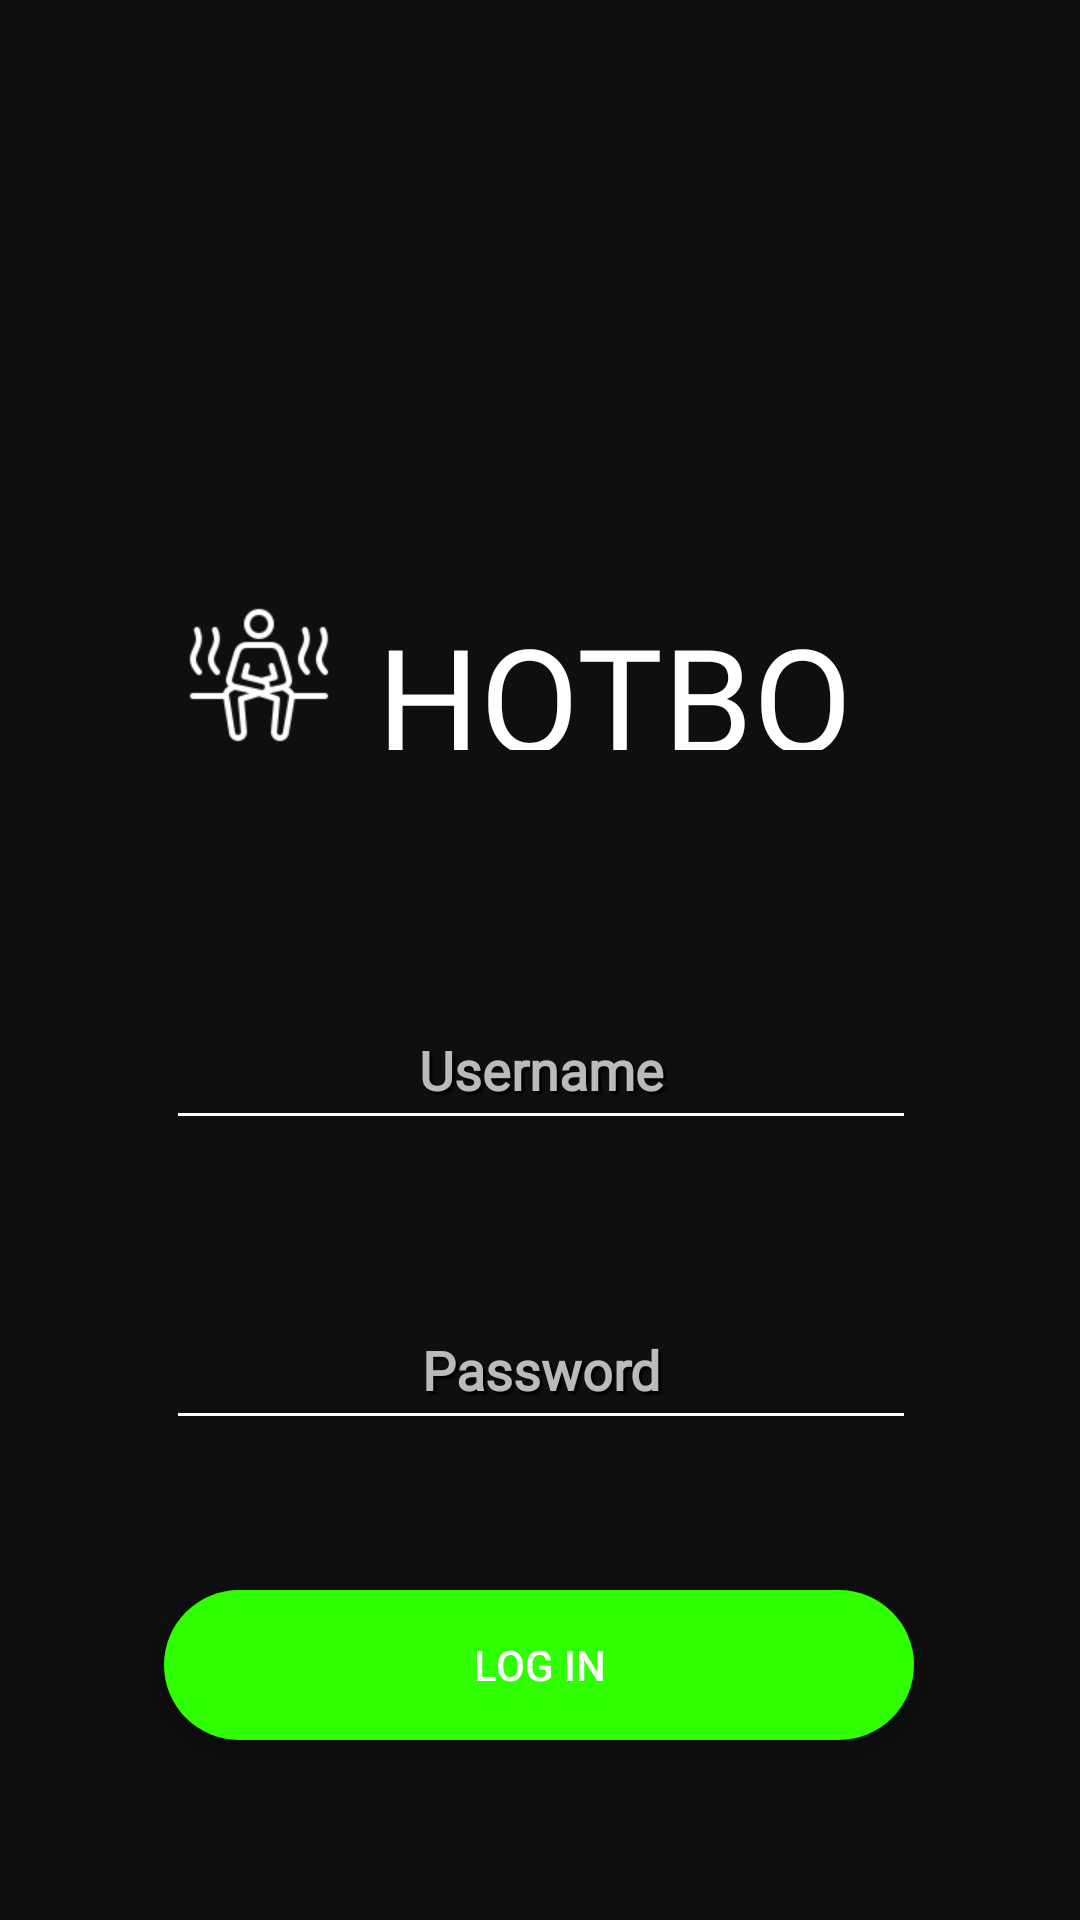

Screen size 1080w x 1920h. Icon name, then its box in pixels as (x1, y1, x2, y2):
sauna: (189, 608, 329, 742)
